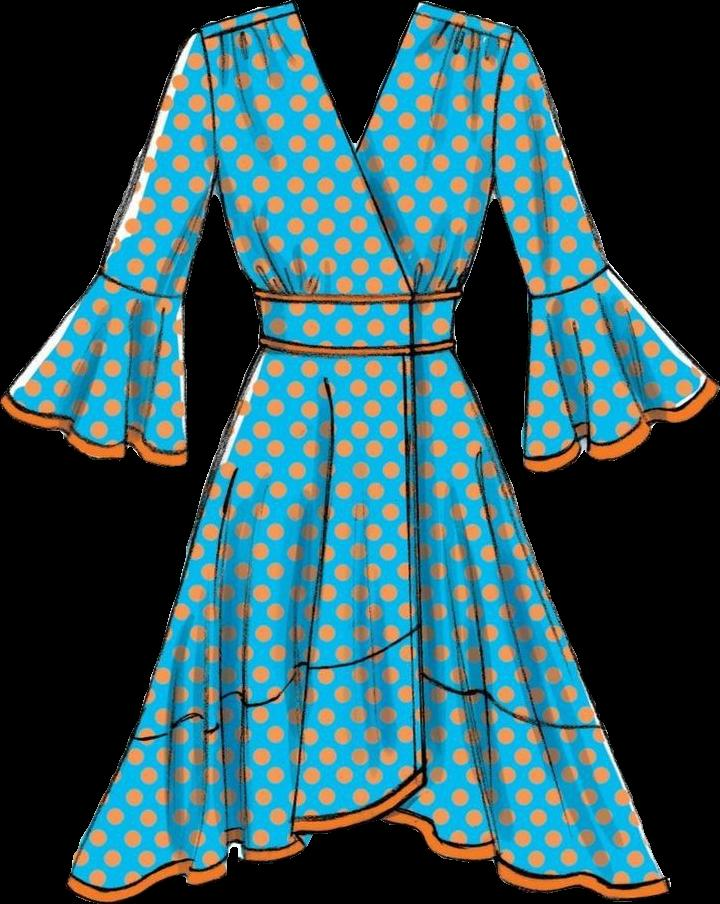Bodice: (204, 2, 518, 350)
Hemline: (65, 813, 672, 903)
Neckline: (288, 0, 426, 153), (252, 291, 458, 311)
Skirt: (68, 343, 670, 901)
Sleeve: (493, 26, 719, 472), (0, 25, 217, 465)
Sleeveline: (489, 24, 519, 197), (199, 24, 222, 197), (525, 260, 610, 302), (98, 264, 185, 302)
Waistline: (255, 335, 459, 360)
